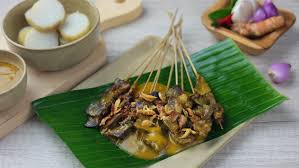sate: (79, 66, 248, 158)
